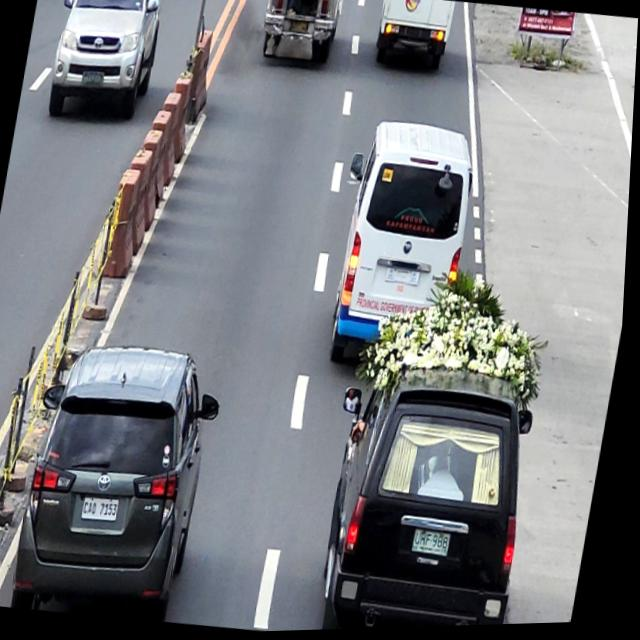Car: (310, 355, 552, 632), (12, 333, 233, 627), (319, 116, 485, 378), (44, 0, 167, 127), (372, 0, 456, 74)
Jeep: (257, 0, 344, 67)
License-Plate: (416, 526, 458, 560), (84, 494, 127, 525), (80, 69, 106, 89)
